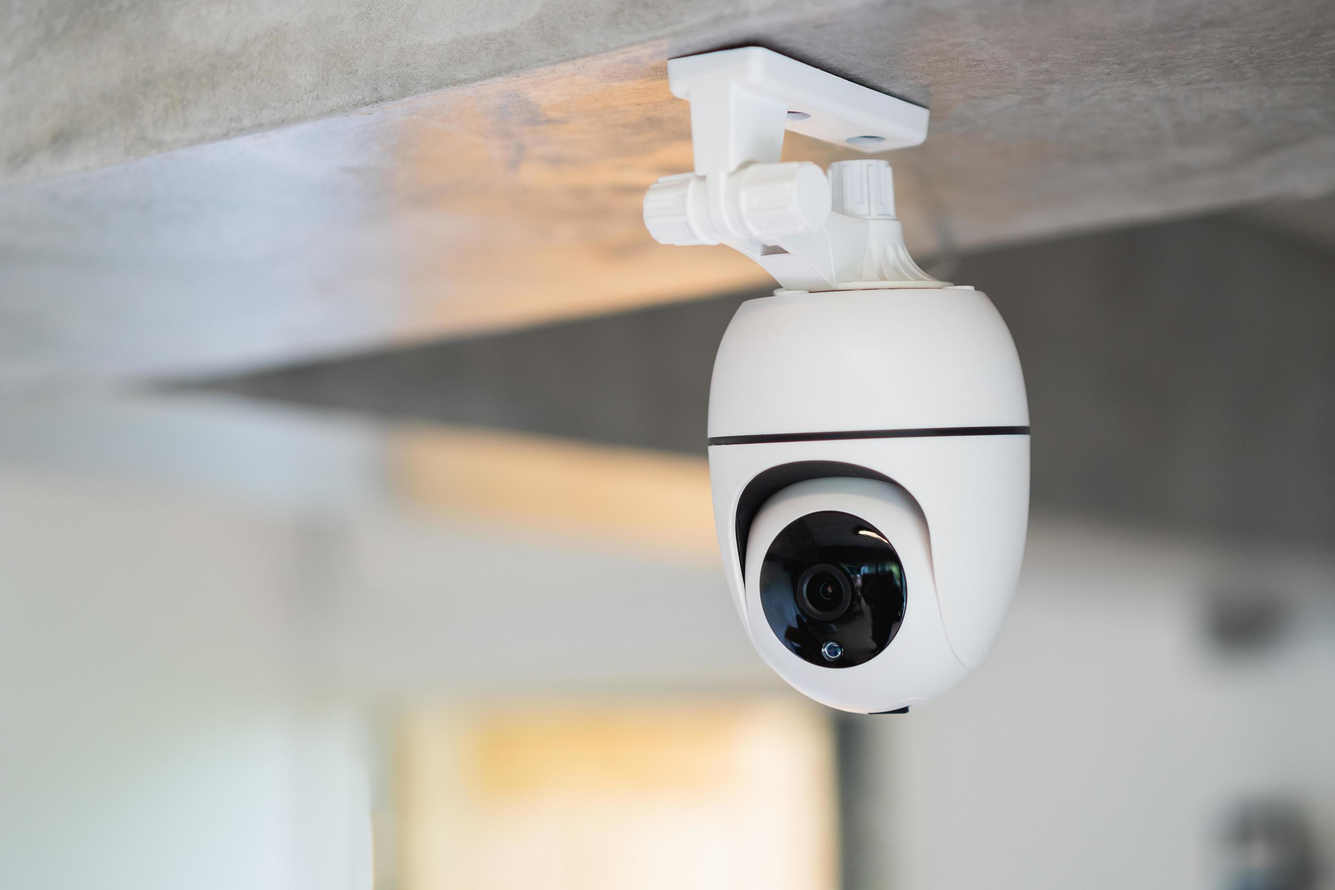Security camera: (640, 44, 1033, 717)
